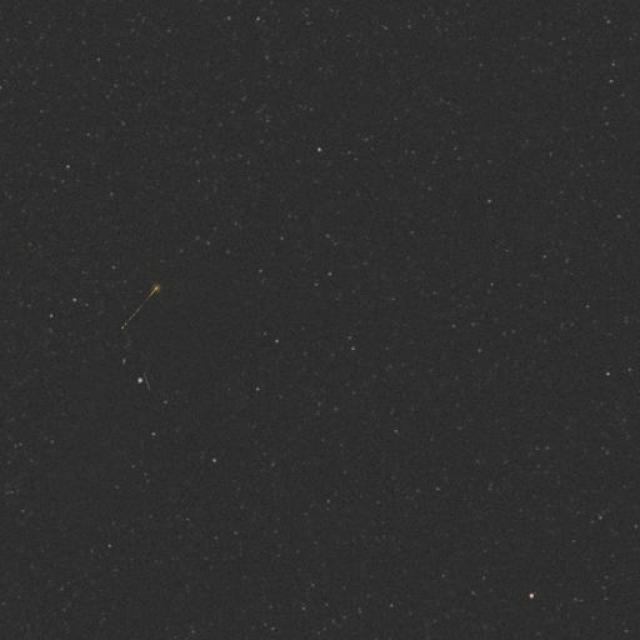earth_observation_sat_1: (96, 280, 255, 445)
